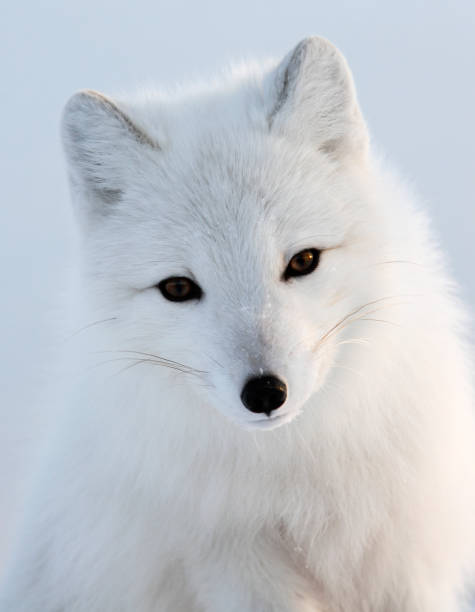arcticfox: (111, 183, 373, 441)
